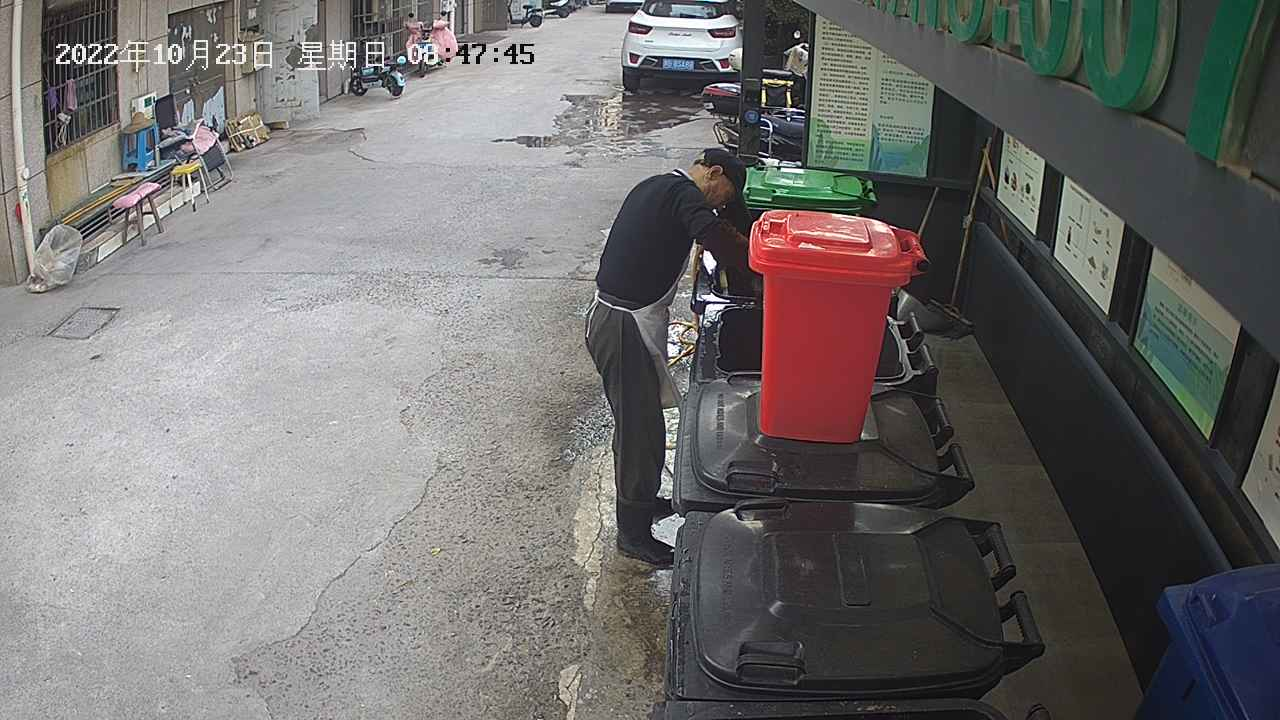person: (575, 144, 758, 569)
